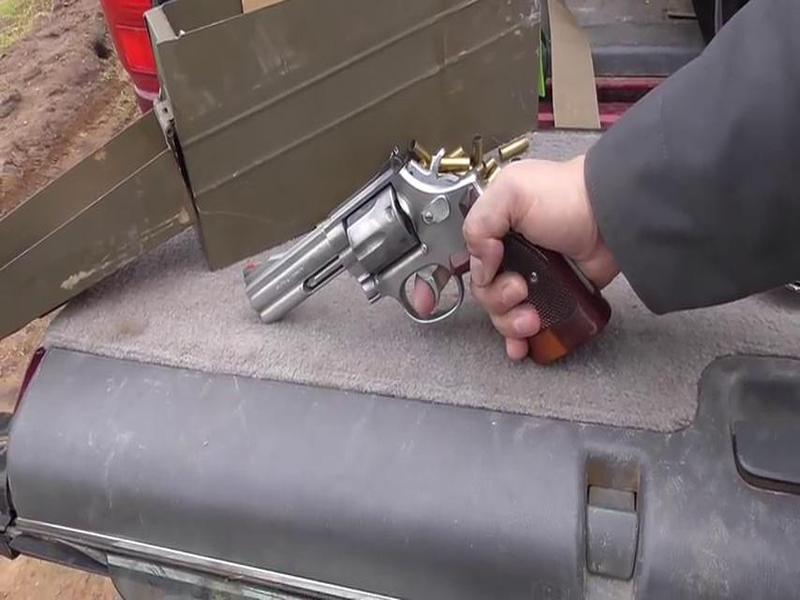Revolver: (224, 111, 623, 414)
